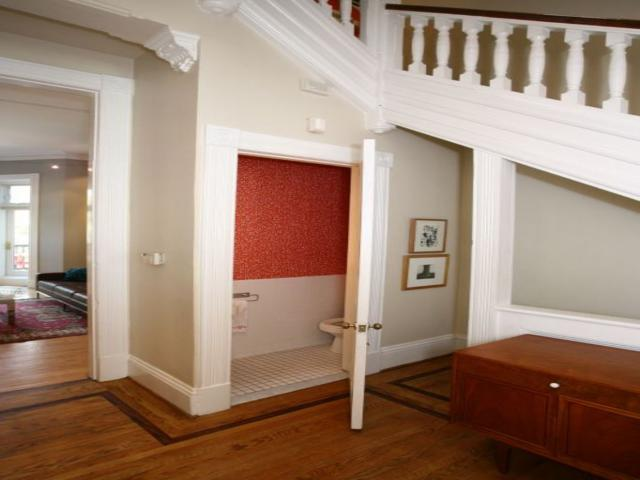Door-handle: (342, 320, 358, 330), (369, 322, 384, 330)
